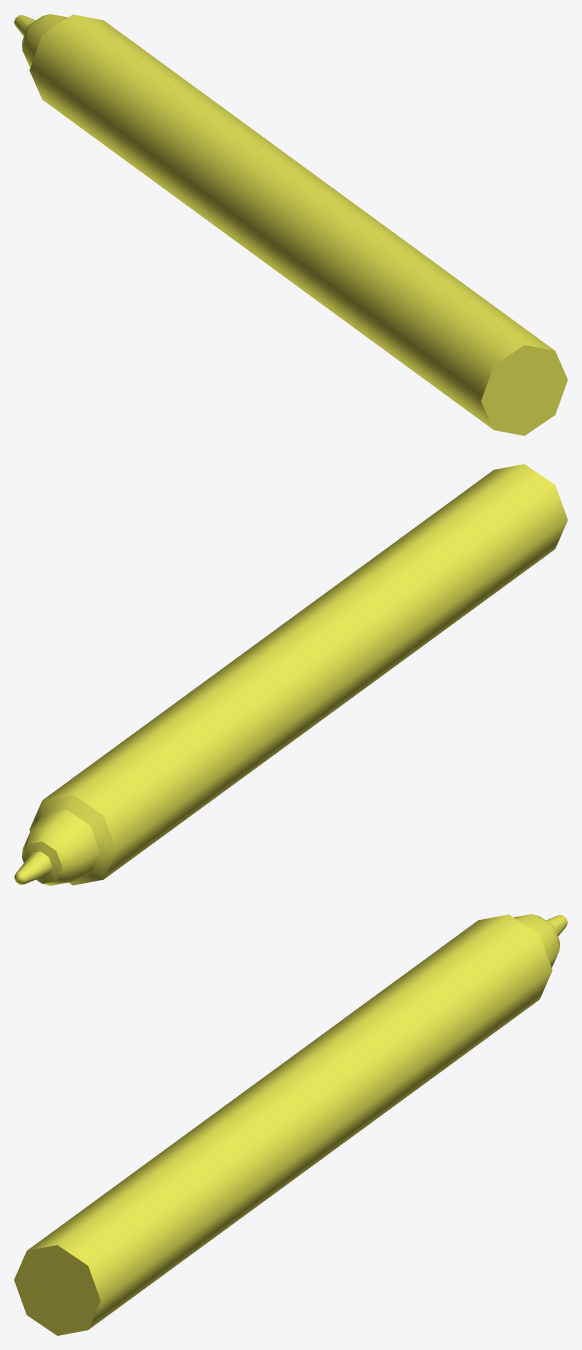
The model's file is Marcador 2.fbx.
The picture shows the model from 3 angles, top to bottom: view 1: azimuth 30°, elevation 25°; view 2: azimuth 150°, elevation 25°; view 3: azimuth 330°, elevation 25°; orthographic projection.
Visible parts, largest first — view 1: Marcador_2; view 2: Marcador_2; view 3: Marcador_2.
Part boxes in pixels (x1,y1,x2,y2): Marcador_2: (14, 14, 567, 435); Marcador_2: (14, 464, 567, 885); Marcador_2: (14, 914, 567, 1335).
Bounding box in the file's own units: 0.016 × 0.016 × 0.1617.
